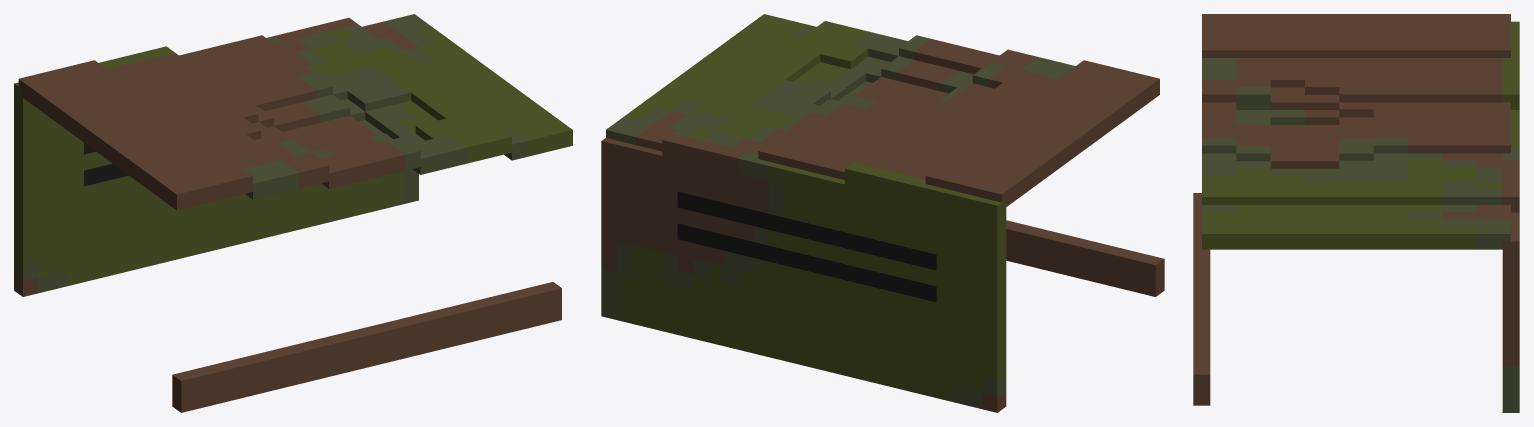
Rendered from abandoned_army_truck_bonnet.glb.
3 views of the same model, side by side, from view 1: azimuth 30°, elevation 25°; view 2: azimuth 150°, elevation 25°; view 3: azimuth 270°, elevation 25° (orthographic). The views are drawn at different scales.
Visible parts, largest first — view 1: body:compound; view 2: body:compound; view 3: body:compound.
Part boxes in pixels (x1,y1,x2,y2): body:compound: (14,14,572,412); body:compound: (601,14,1164,412); body:compound: (1193,14,1519,412).
Size of the model in its own units: 1.62 by 0.8438 by 1.19.
